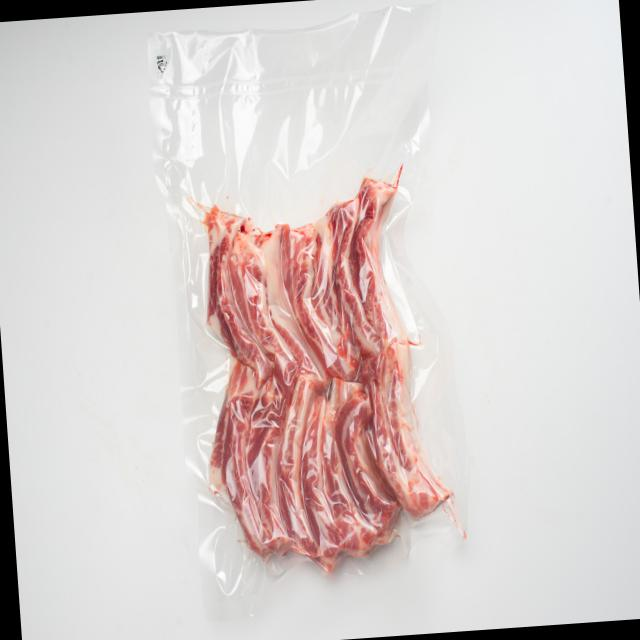pork: (177, 128, 447, 589)
